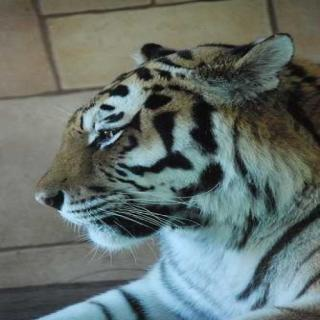Tiger: (21, 27, 320, 320)
